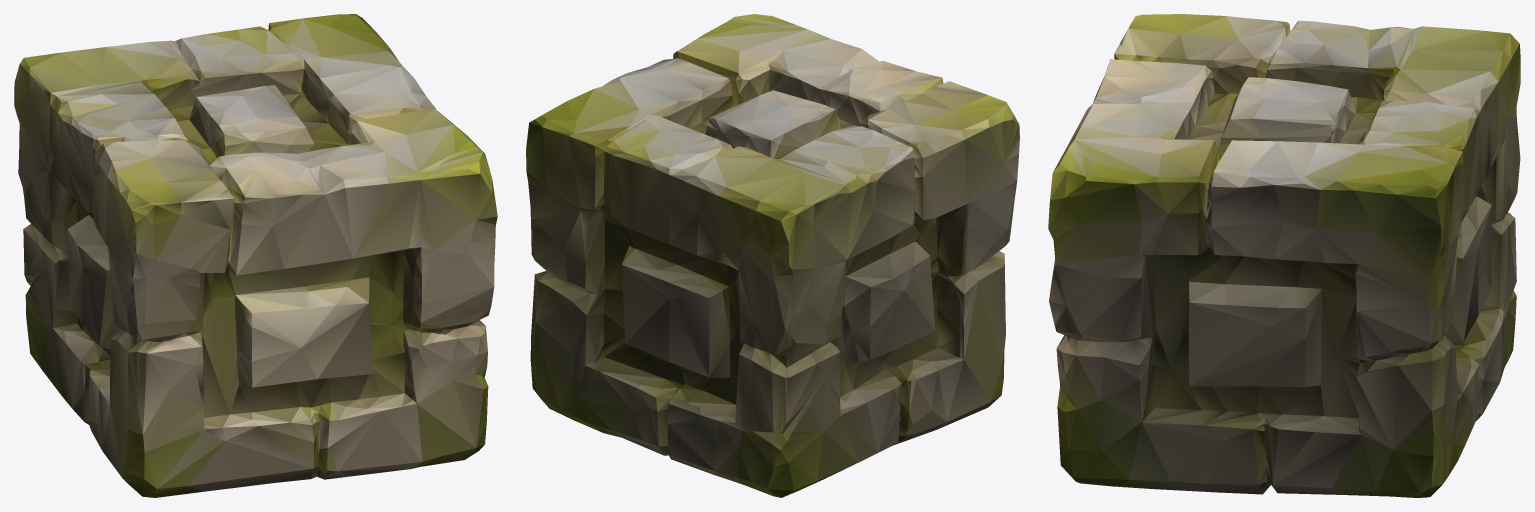
The model's file is building-ruins-stoneBlock.glb.
3 renders of one model, left to right at view 1: azimuth 30°, elevation 25°; view 2: azimuth 150°, elevation 25°; view 3: azimuth 270°, elevation 25°, orthographic. The views are drawn at different scales.
Visible parts, largest first — view 1: 0_ruins-stoneBlock; view 2: 0_ruins-stoneBlock; view 3: 0_ruins-stoneBlock.
Boxes of the visible parts, <box> form: 0_ruins-stoneBlock: <box>14,14,497,497</box>; 0_ruins-stoneBlock: <box>526,14,1019,497</box>; 0_ruins-stoneBlock: <box>1048,14,1520,497</box>.
Size of the model in its own units: 0.5675 by 0.4601 by 0.6.
